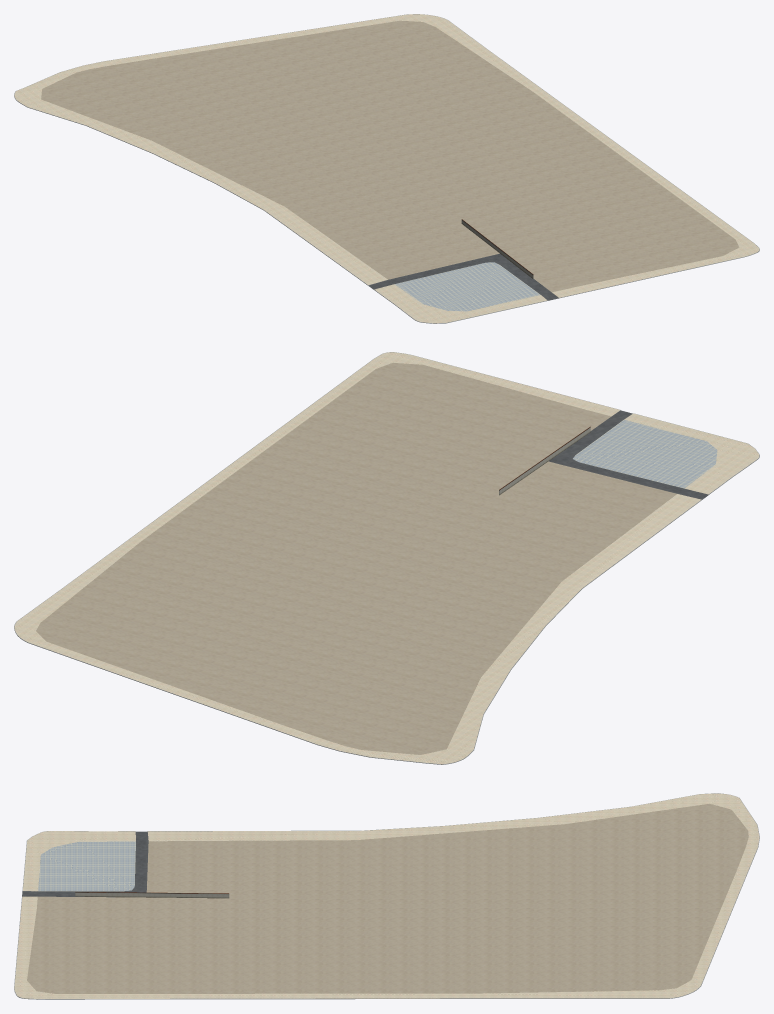
The picture shows the model from 3 angles, top to bottom: view 1: azimuth 30°, elevation 25°; view 2: azimuth 150°, elevation 25°; view 3: azimuth 270°, elevation 25°; orthographic projection. The views are drawn at different scales.
Parts seen in each view (by area): view 1: HK23_DK_PL_024; view 2: HK23_DK_PL_024; view 3: HK23_DK_PL_024.
Boxes of the visible parts, x1=… form: HK23_DK_PL_024: x1=14, y1=14, x2=759, y2=323; HK23_DK_PL_024: x1=14, y1=352, x2=759, y2=764; HK23_DK_PL_024: x1=14, y1=793, x2=759, y2=999.
Bounding box in the file's own units: 230 × 2.85 × 353.
Materials: 6 (6 with a texture image).
